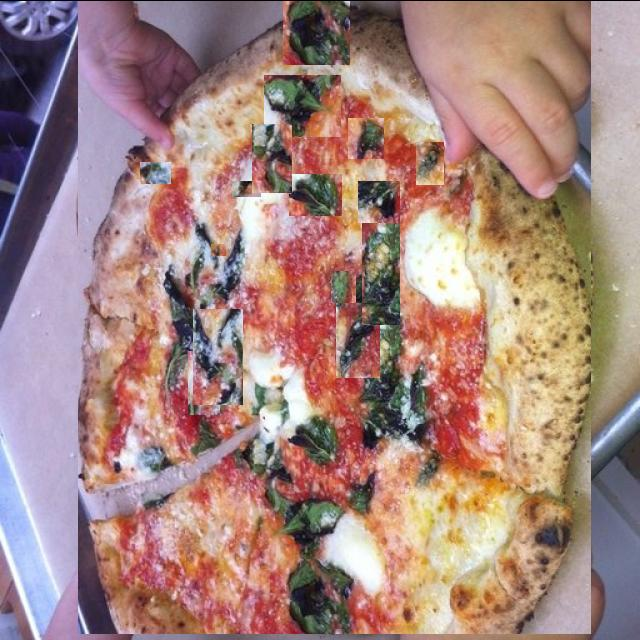basil: (158, 244, 208, 361), (193, 308, 243, 404), (264, 74, 341, 136), (283, 0, 350, 64), (362, 213, 400, 324), (398, 196, 438, 283), (336, 302, 380, 377), (252, 123, 292, 192), (289, 173, 342, 215), (188, 350, 220, 414), (358, 180, 400, 222), (348, 117, 384, 158), (193, 177, 222, 220), (416, 141, 444, 184), (331, 270, 356, 302), (140, 161, 171, 183), (141, 125, 174, 140), (232, 180, 261, 196), (212, 243, 228, 255)
pizza: (78, 0, 591, 633)
